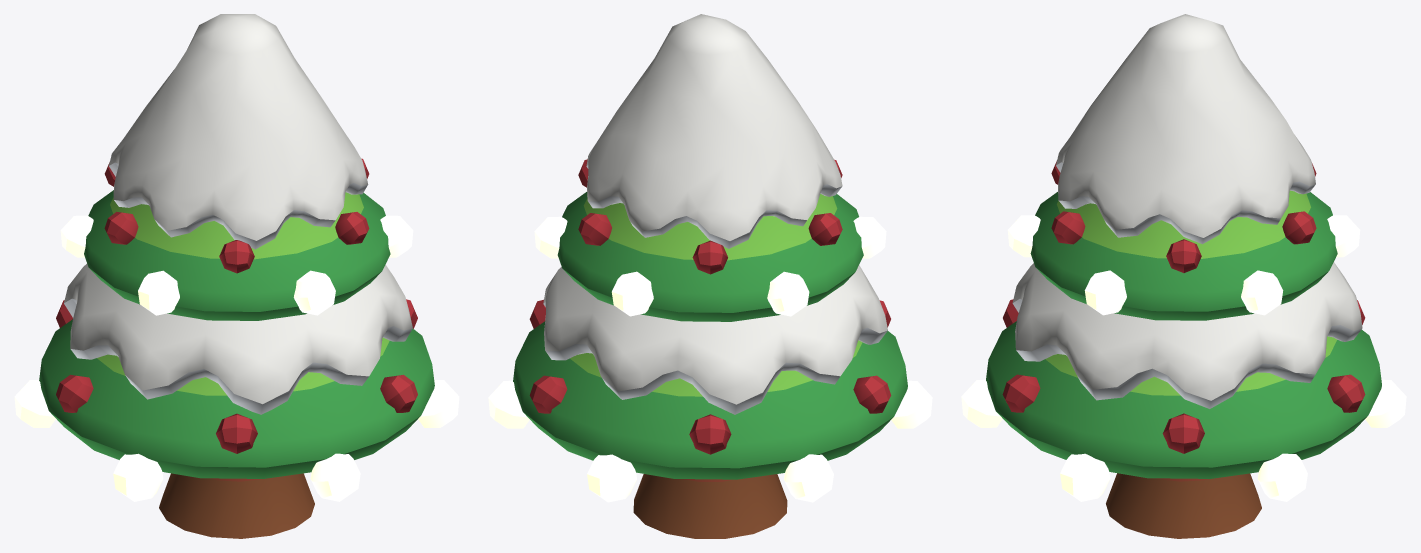
Rendered from arvore_natal_externa_neve_pacote.glb.
3 views of the same model, side by side, from view 1: azimuth 30°, elevation 25°; view 2: azimuth 150°, elevation 25°; view 3: azimuth 270°, elevation 25° (orthographic).
Parts seen in each view (by area): view 1: arvore_natal_externa_neve_pacote; view 2: arvore_natal_externa_neve_pacote; view 3: arvore_natal_externa_neve_pacote.
Part boxes in pixels (x1=…): arvore_natal_externa_neve_pacote: x1=14, y1=14, x2=459, y2=538; arvore_natal_externa_neve_pacote: x1=488, y1=14, x2=932, y2=538; arvore_natal_externa_neve_pacote: x1=961, y1=14, x2=1406, y2=538.
Size of the model in its own units: 1.88 by 2.45 by 2.03.
Materials: 2 (1 with a texture image).
